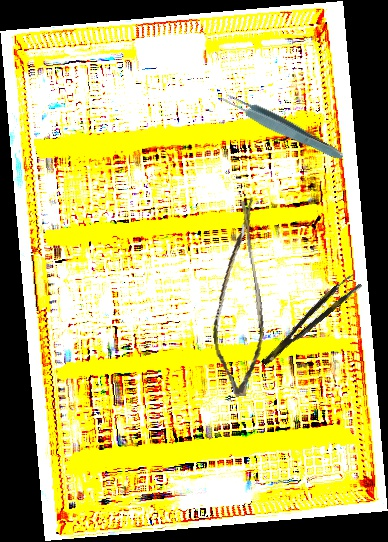Micro Scissor: (192, 195, 284, 400)
Tissue Forceps: (255, 272, 363, 367), (217, 87, 347, 165)
